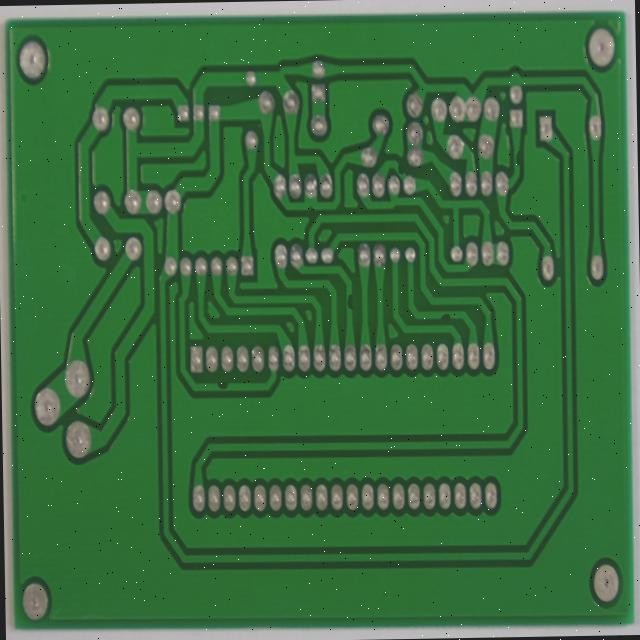mouse_bite: (421, 180, 439, 213), (229, 440, 250, 466), (547, 167, 562, 202), (467, 360, 487, 382), (369, 339, 383, 368)
